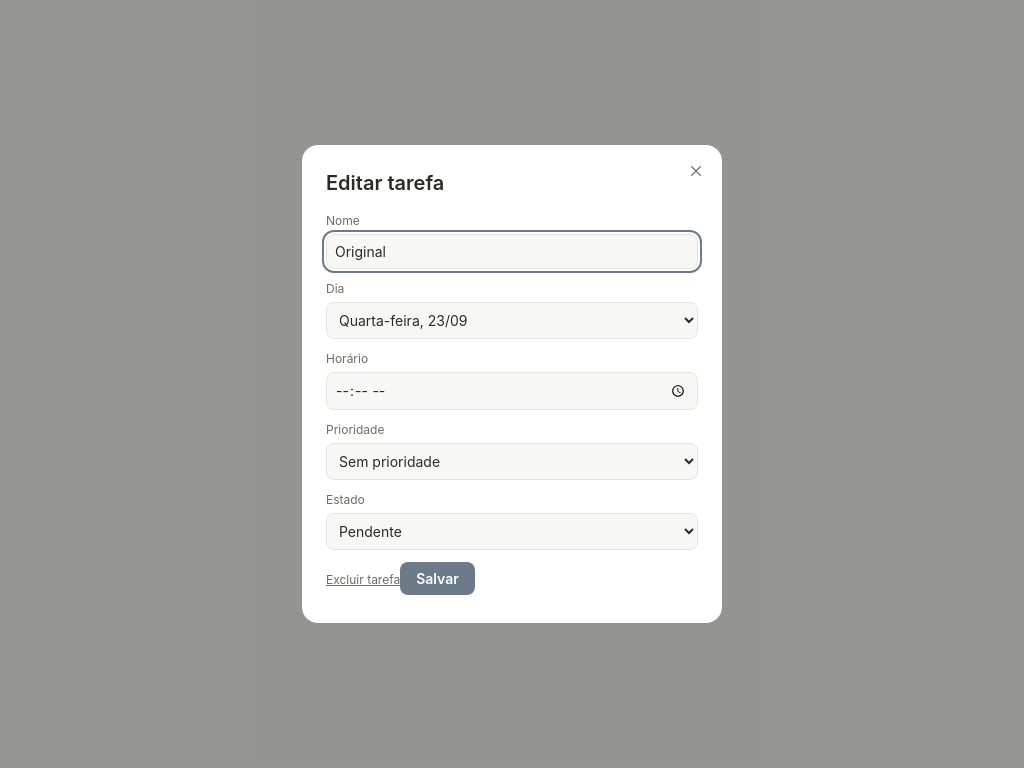
Scenario: TaskModal — Excluir tarefa com confirmação (Story 2.3) › Esc na confirmação: volta ao modo edição (mesmo efeito de "Cancelar"), campo editado sobrevive, modal não fecha
Replace the text in the field labelled "Nome" with "Editado mas não salvo" at (512, 252), box top-left (326, 234), bottom-right (698, 269)
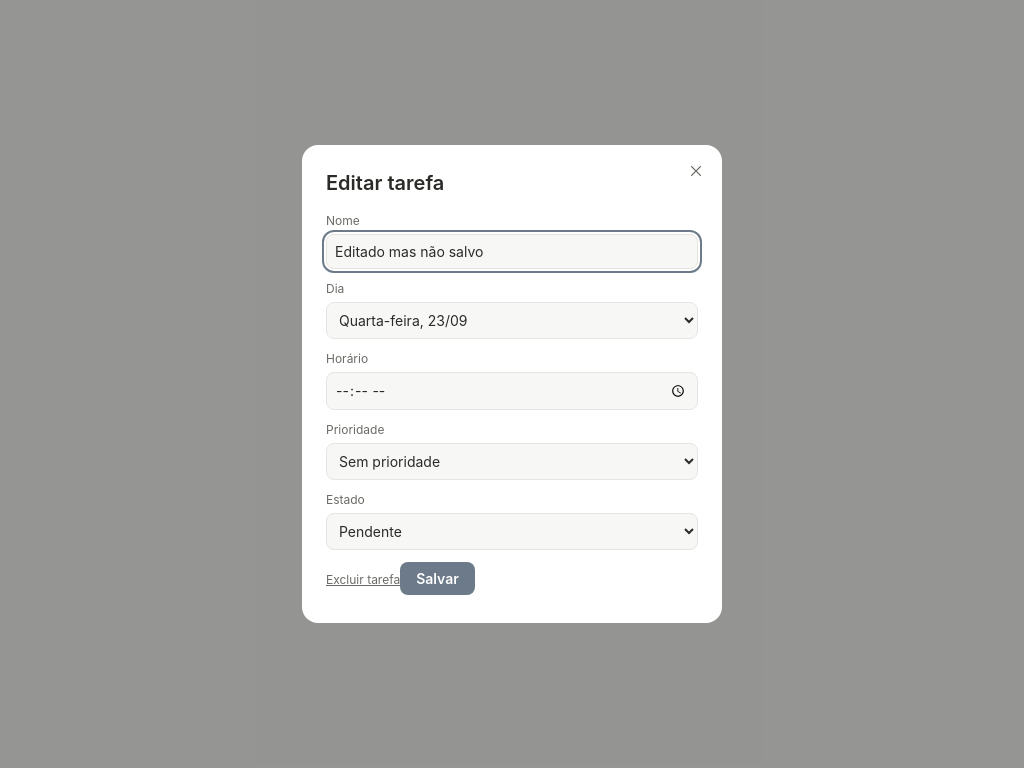
Click the button "Excluir tarefa" at (363, 579), box top-left (326, 572), bottom-right (400, 587)
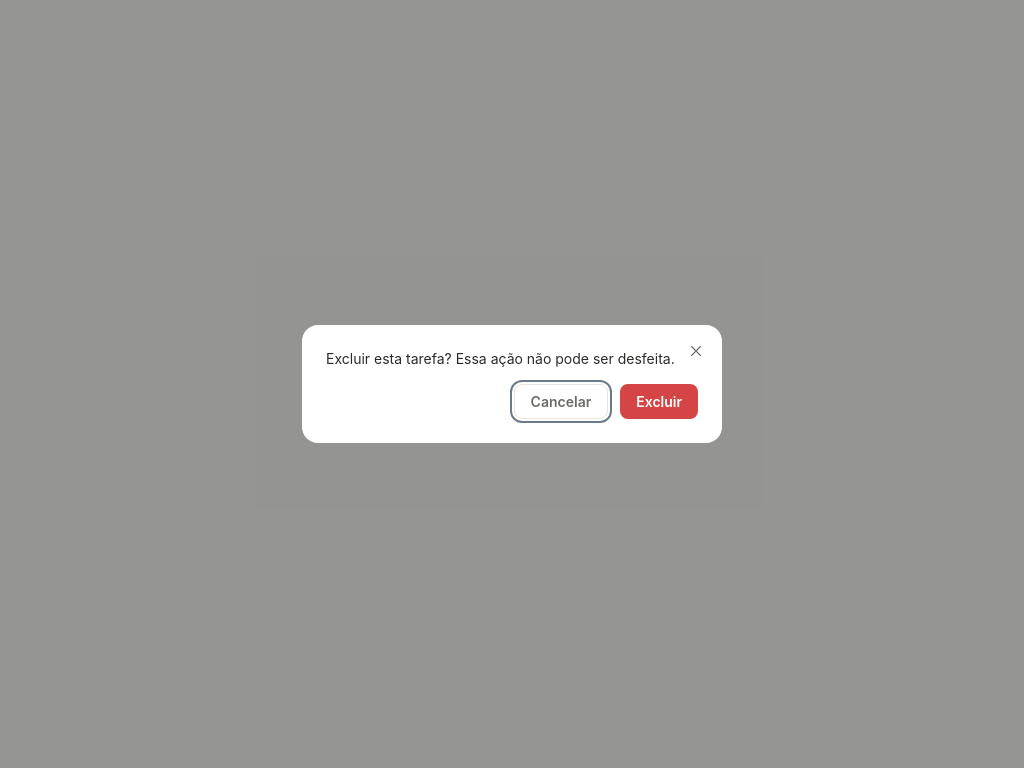
Press Escape
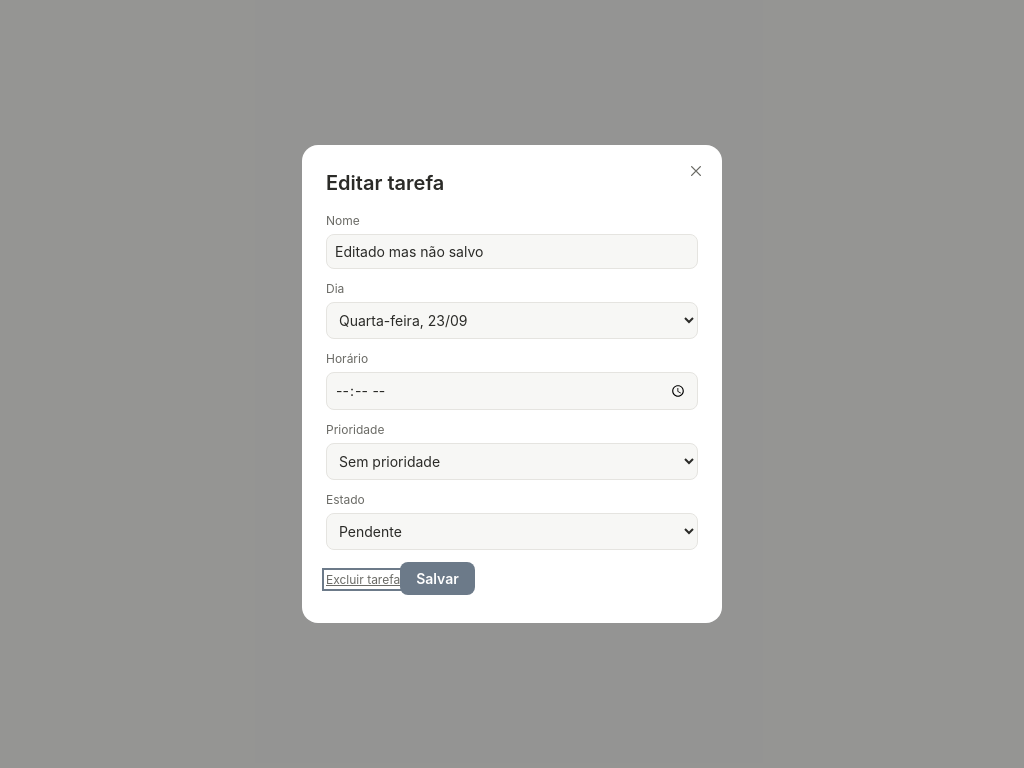
Expected: the button "Salvar" is shown, top-left (400, 562), bottom-right (475, 595)
Expected: the text "Excluir esta tarefa? Essa ação não pode ser desfeita." is gone
Expected: the field labelled "Nome" holds "Editado mas não salvo", top-left (326, 234), bottom-right (698, 269)
